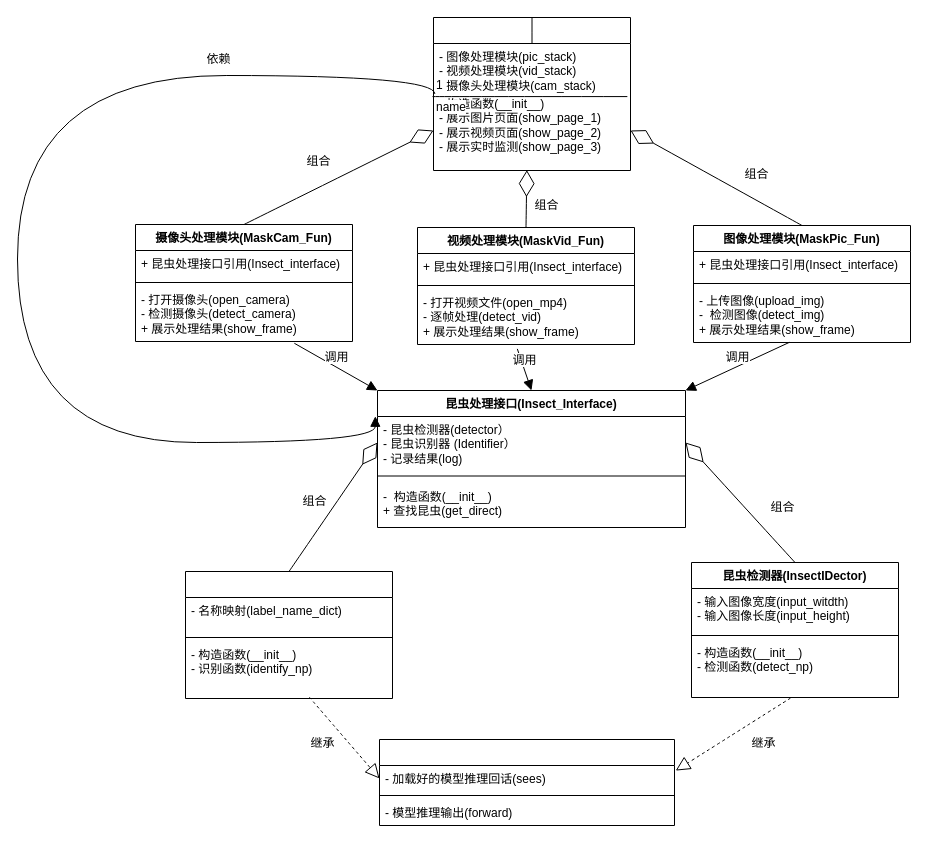
Image size: 928x846. Some labels were removed from this diagram. The shapes that lost their labels are listed below. From the top down, each one's box as (x1, y1, x2, y2) in pixels, then its label:
(432, 16, 630, 170): UI页面层(UI_ShowPages）
(184, 570, 392, 698): 昆虫识别器(InsectIdentifier)
(378, 738, 674, 826): ONNX模型基类(OnnxModel)
